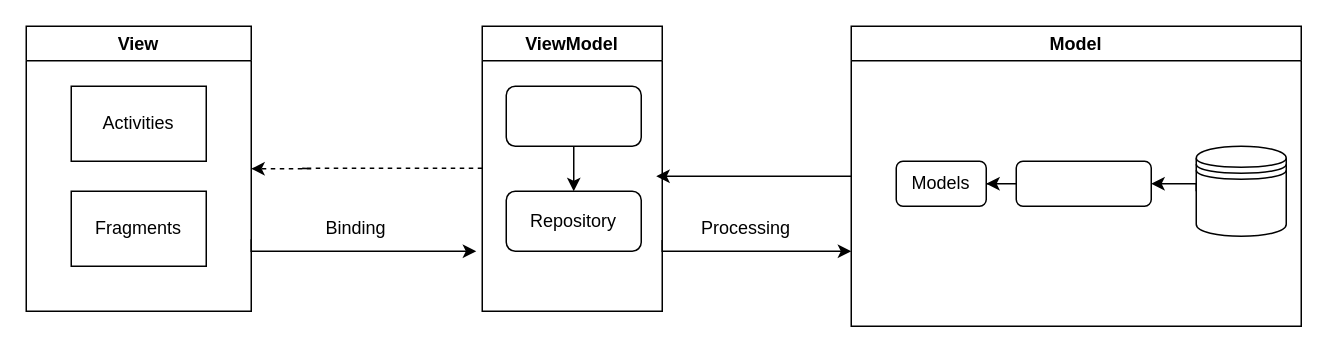
Some shapes in this 1328 by 353 pixel diagram are drawn without their labels. The shapes that lost their labels are listed below. From the top down, each one's centre as x and y in pixels, then its label:
At point 573,115: "ViewModels".
At point 1083,183: "Databasehelper".
At point 1240,190: "Firebase".
